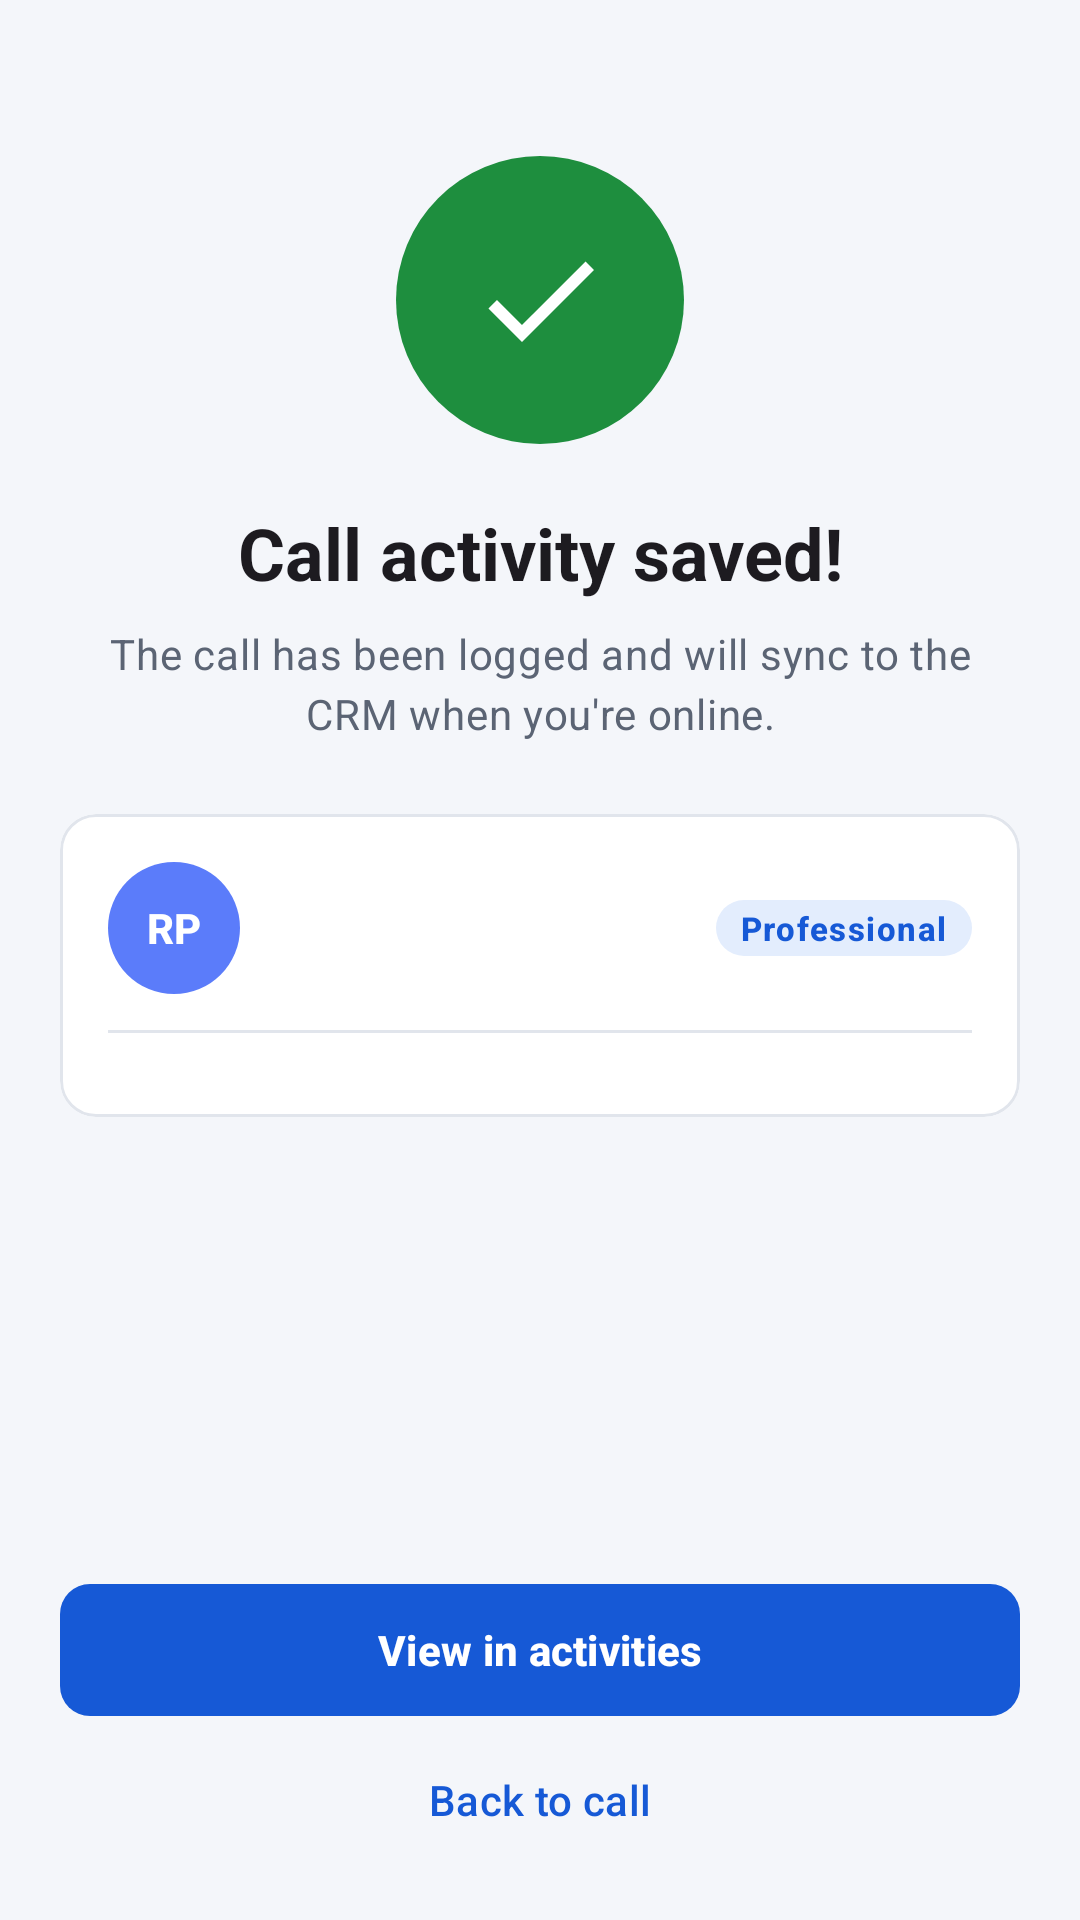

Icon click points for this 1080 × 1920 phone screenshot, format (x=x, y=y):
check: (x=540, y=300)
